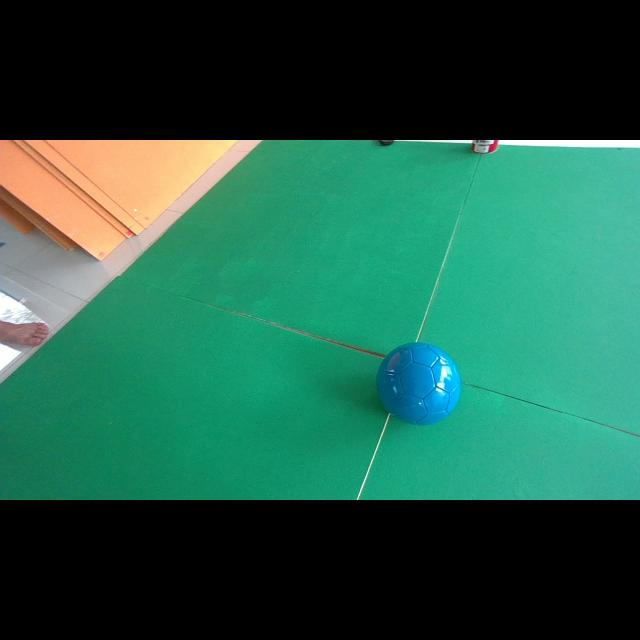B: (376, 342, 461, 425)
